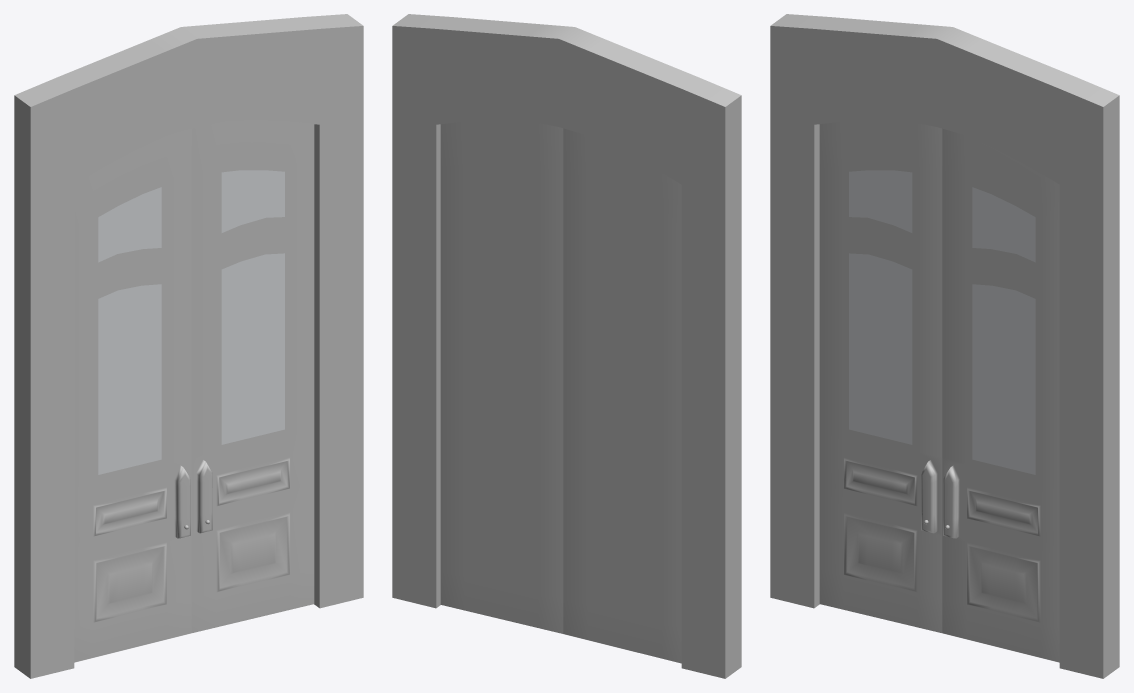
The model's file is playerDoor.fbx.
The picture shows the model from 3 angles, left to right: view 1: azimuth 30°, elevation 25°; view 2: azimuth 150°, elevation 25°; view 3: azimuth 330°, elevation 25°; orthographic projection.
Parts seen in each view (by area): view 1: door, frame; view 2: door, frame; view 3: door, frame.
Boxes of the visible parts, bbox=[...] form: door: bbox=[74, 120, 314, 662]; frame: bbox=[14, 14, 363, 678]; door: bbox=[440, 120, 681, 663]; frame: bbox=[392, 14, 741, 678]; door: bbox=[819, 120, 1059, 662]; frame: bbox=[770, 14, 1119, 678].
Size of the model in its own units: 305 by 524 by 27.58.
